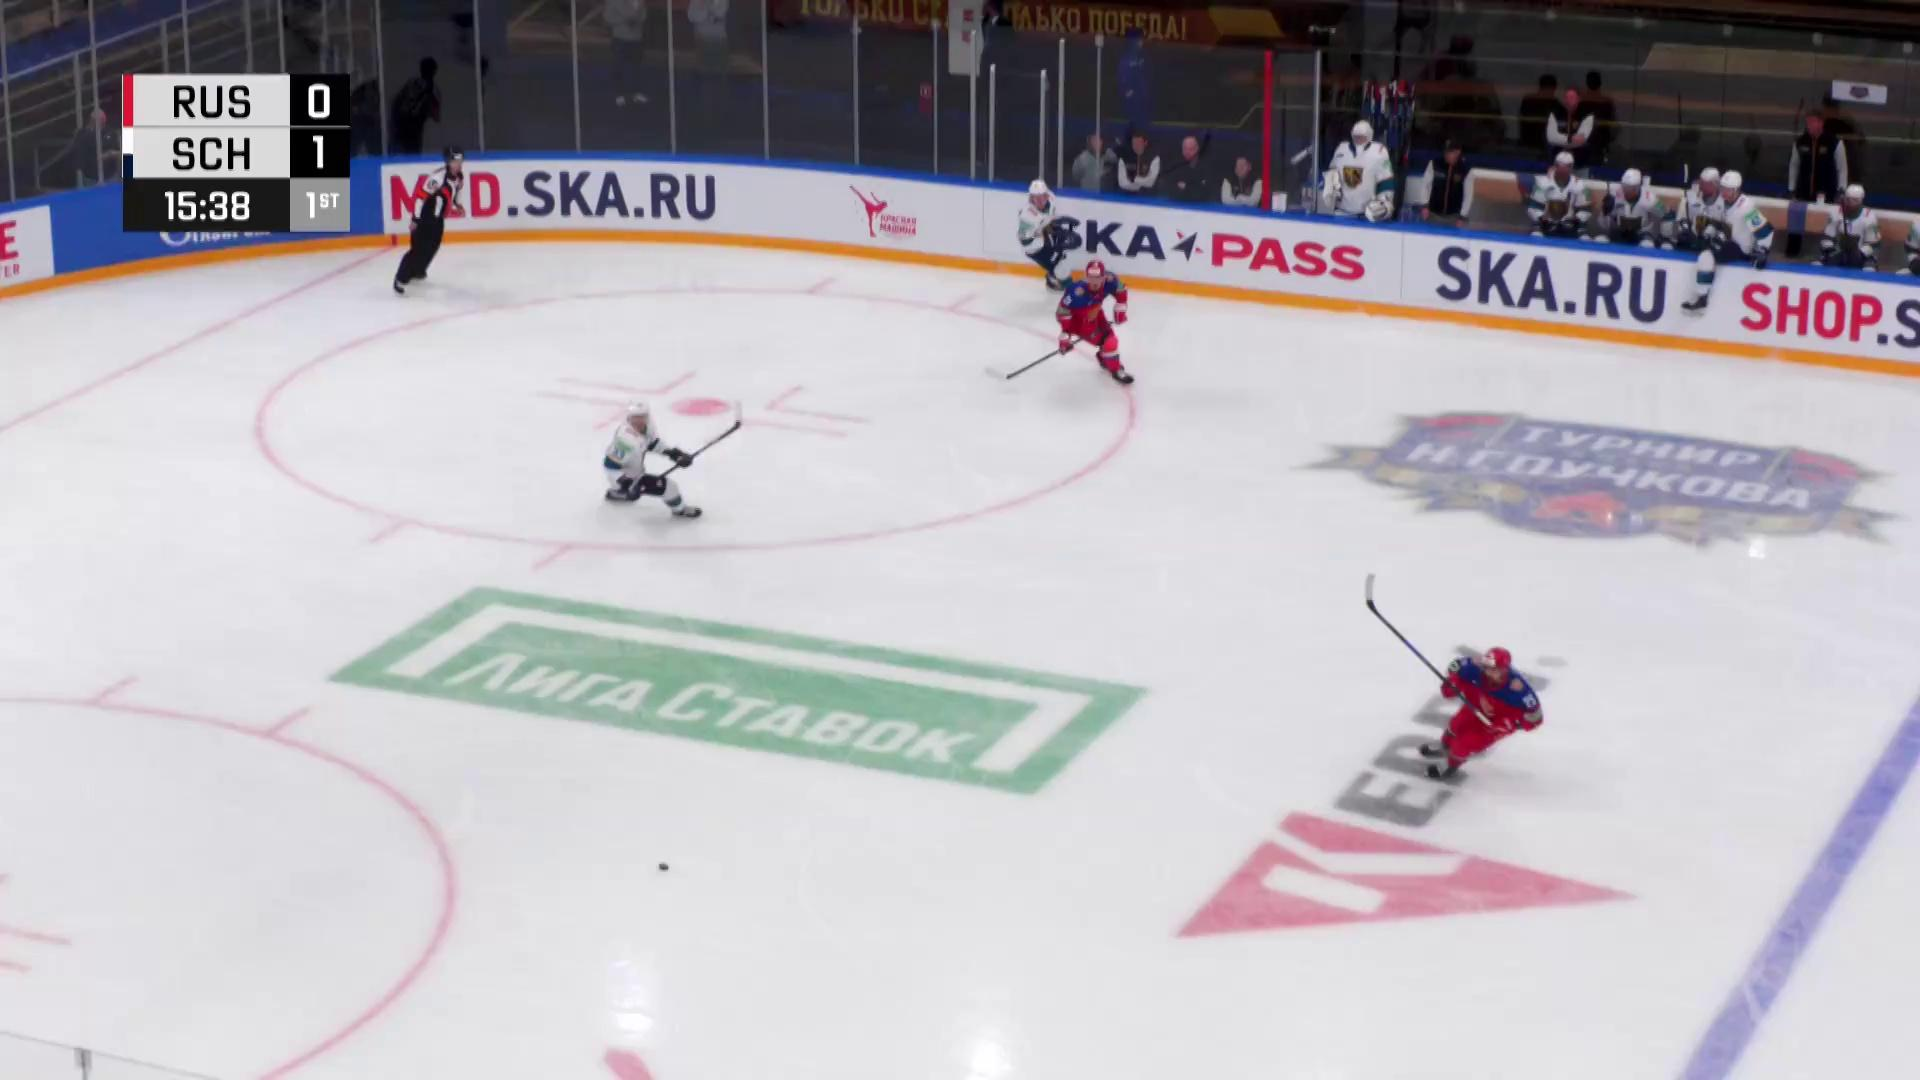ball: (657, 862, 670, 872)
